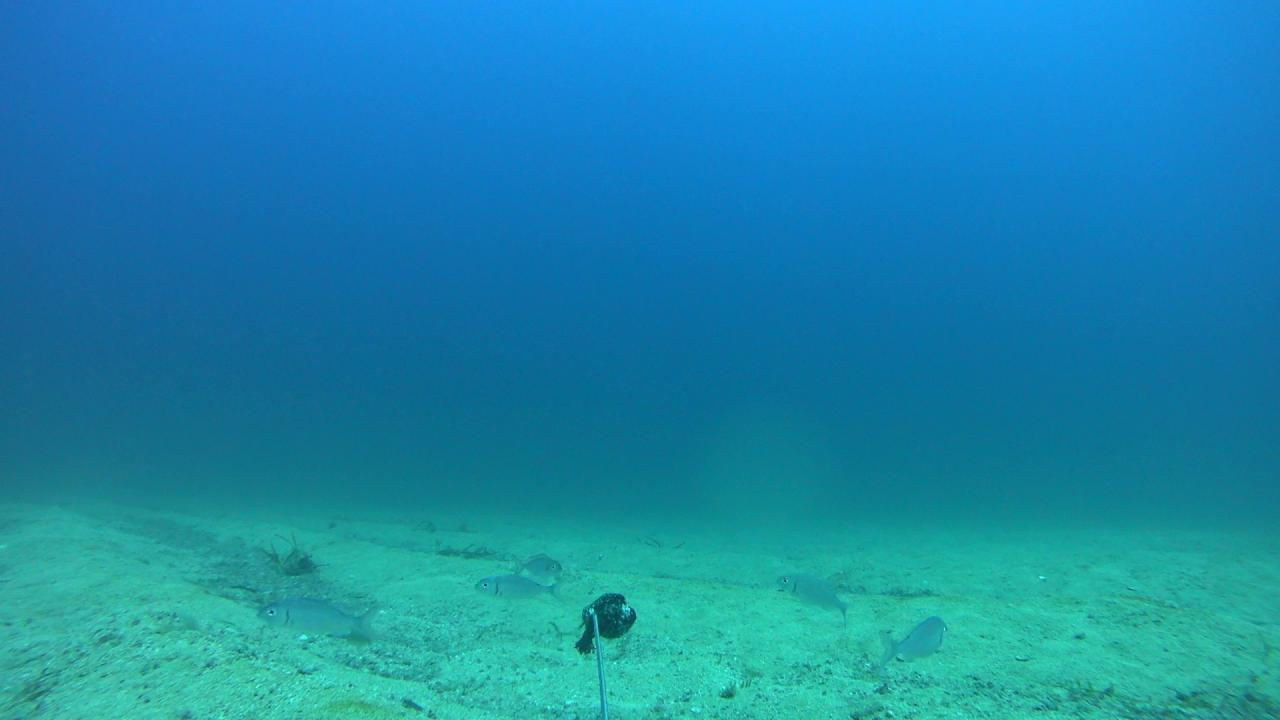pagellus: (258, 596, 380, 641), (874, 614, 949, 669), (775, 571, 850, 621), (473, 573, 558, 603), (510, 551, 560, 576)
